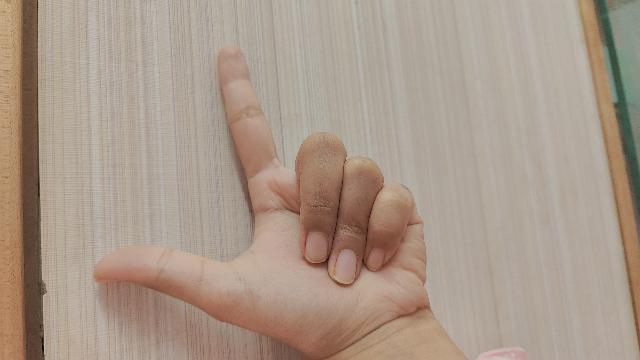chandrakala: (92, 47, 470, 360)
